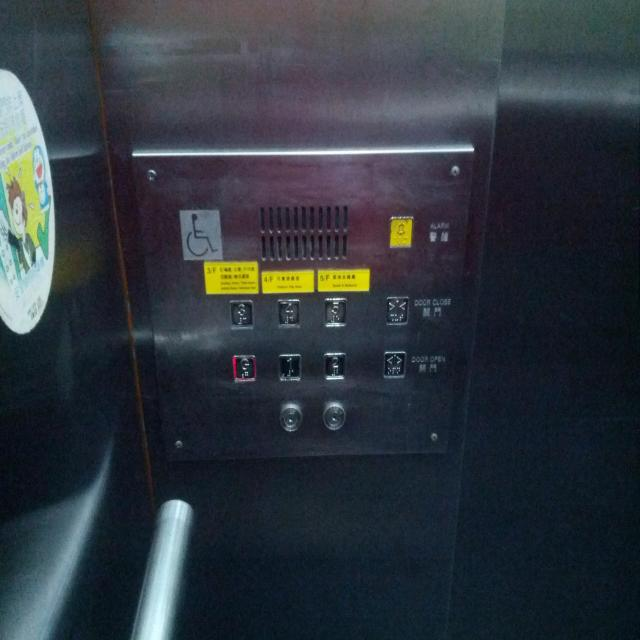1: (278, 352, 302, 383)
2: (322, 351, 347, 382)
3: (228, 299, 255, 331)
4: (275, 297, 301, 330)
5: (322, 295, 348, 329)
CH: (176, 206, 224, 262)
G: (231, 352, 257, 384)
alarm: (388, 215, 414, 249)
close: (384, 293, 410, 329)
keyhole: (321, 398, 347, 432), (279, 401, 302, 435)
open: (382, 349, 406, 382)
